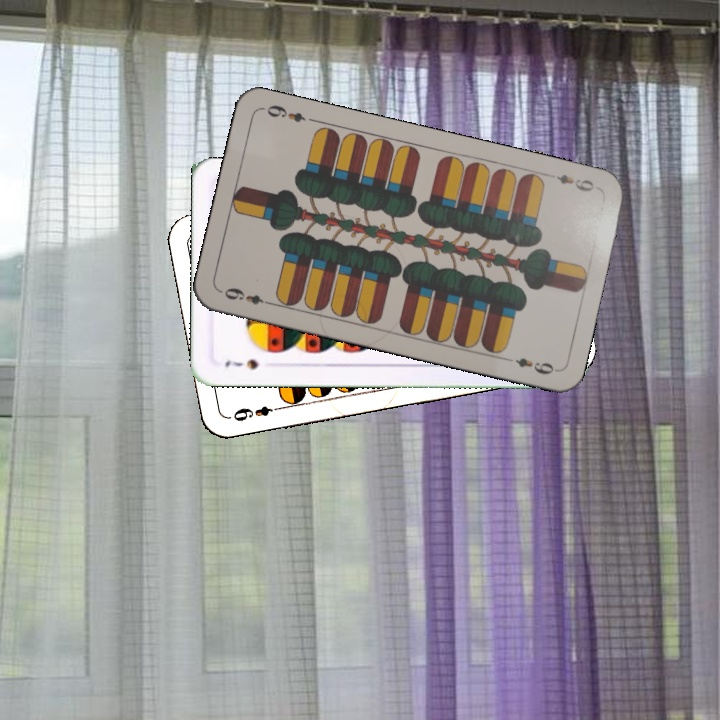E9: (217, 283, 275, 308), (226, 402, 285, 424), (552, 170, 597, 195)
S7: (221, 355, 261, 372)
